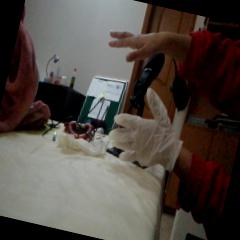gloved: (104, 80, 190, 173)
not-gloved: (104, 18, 185, 72)
